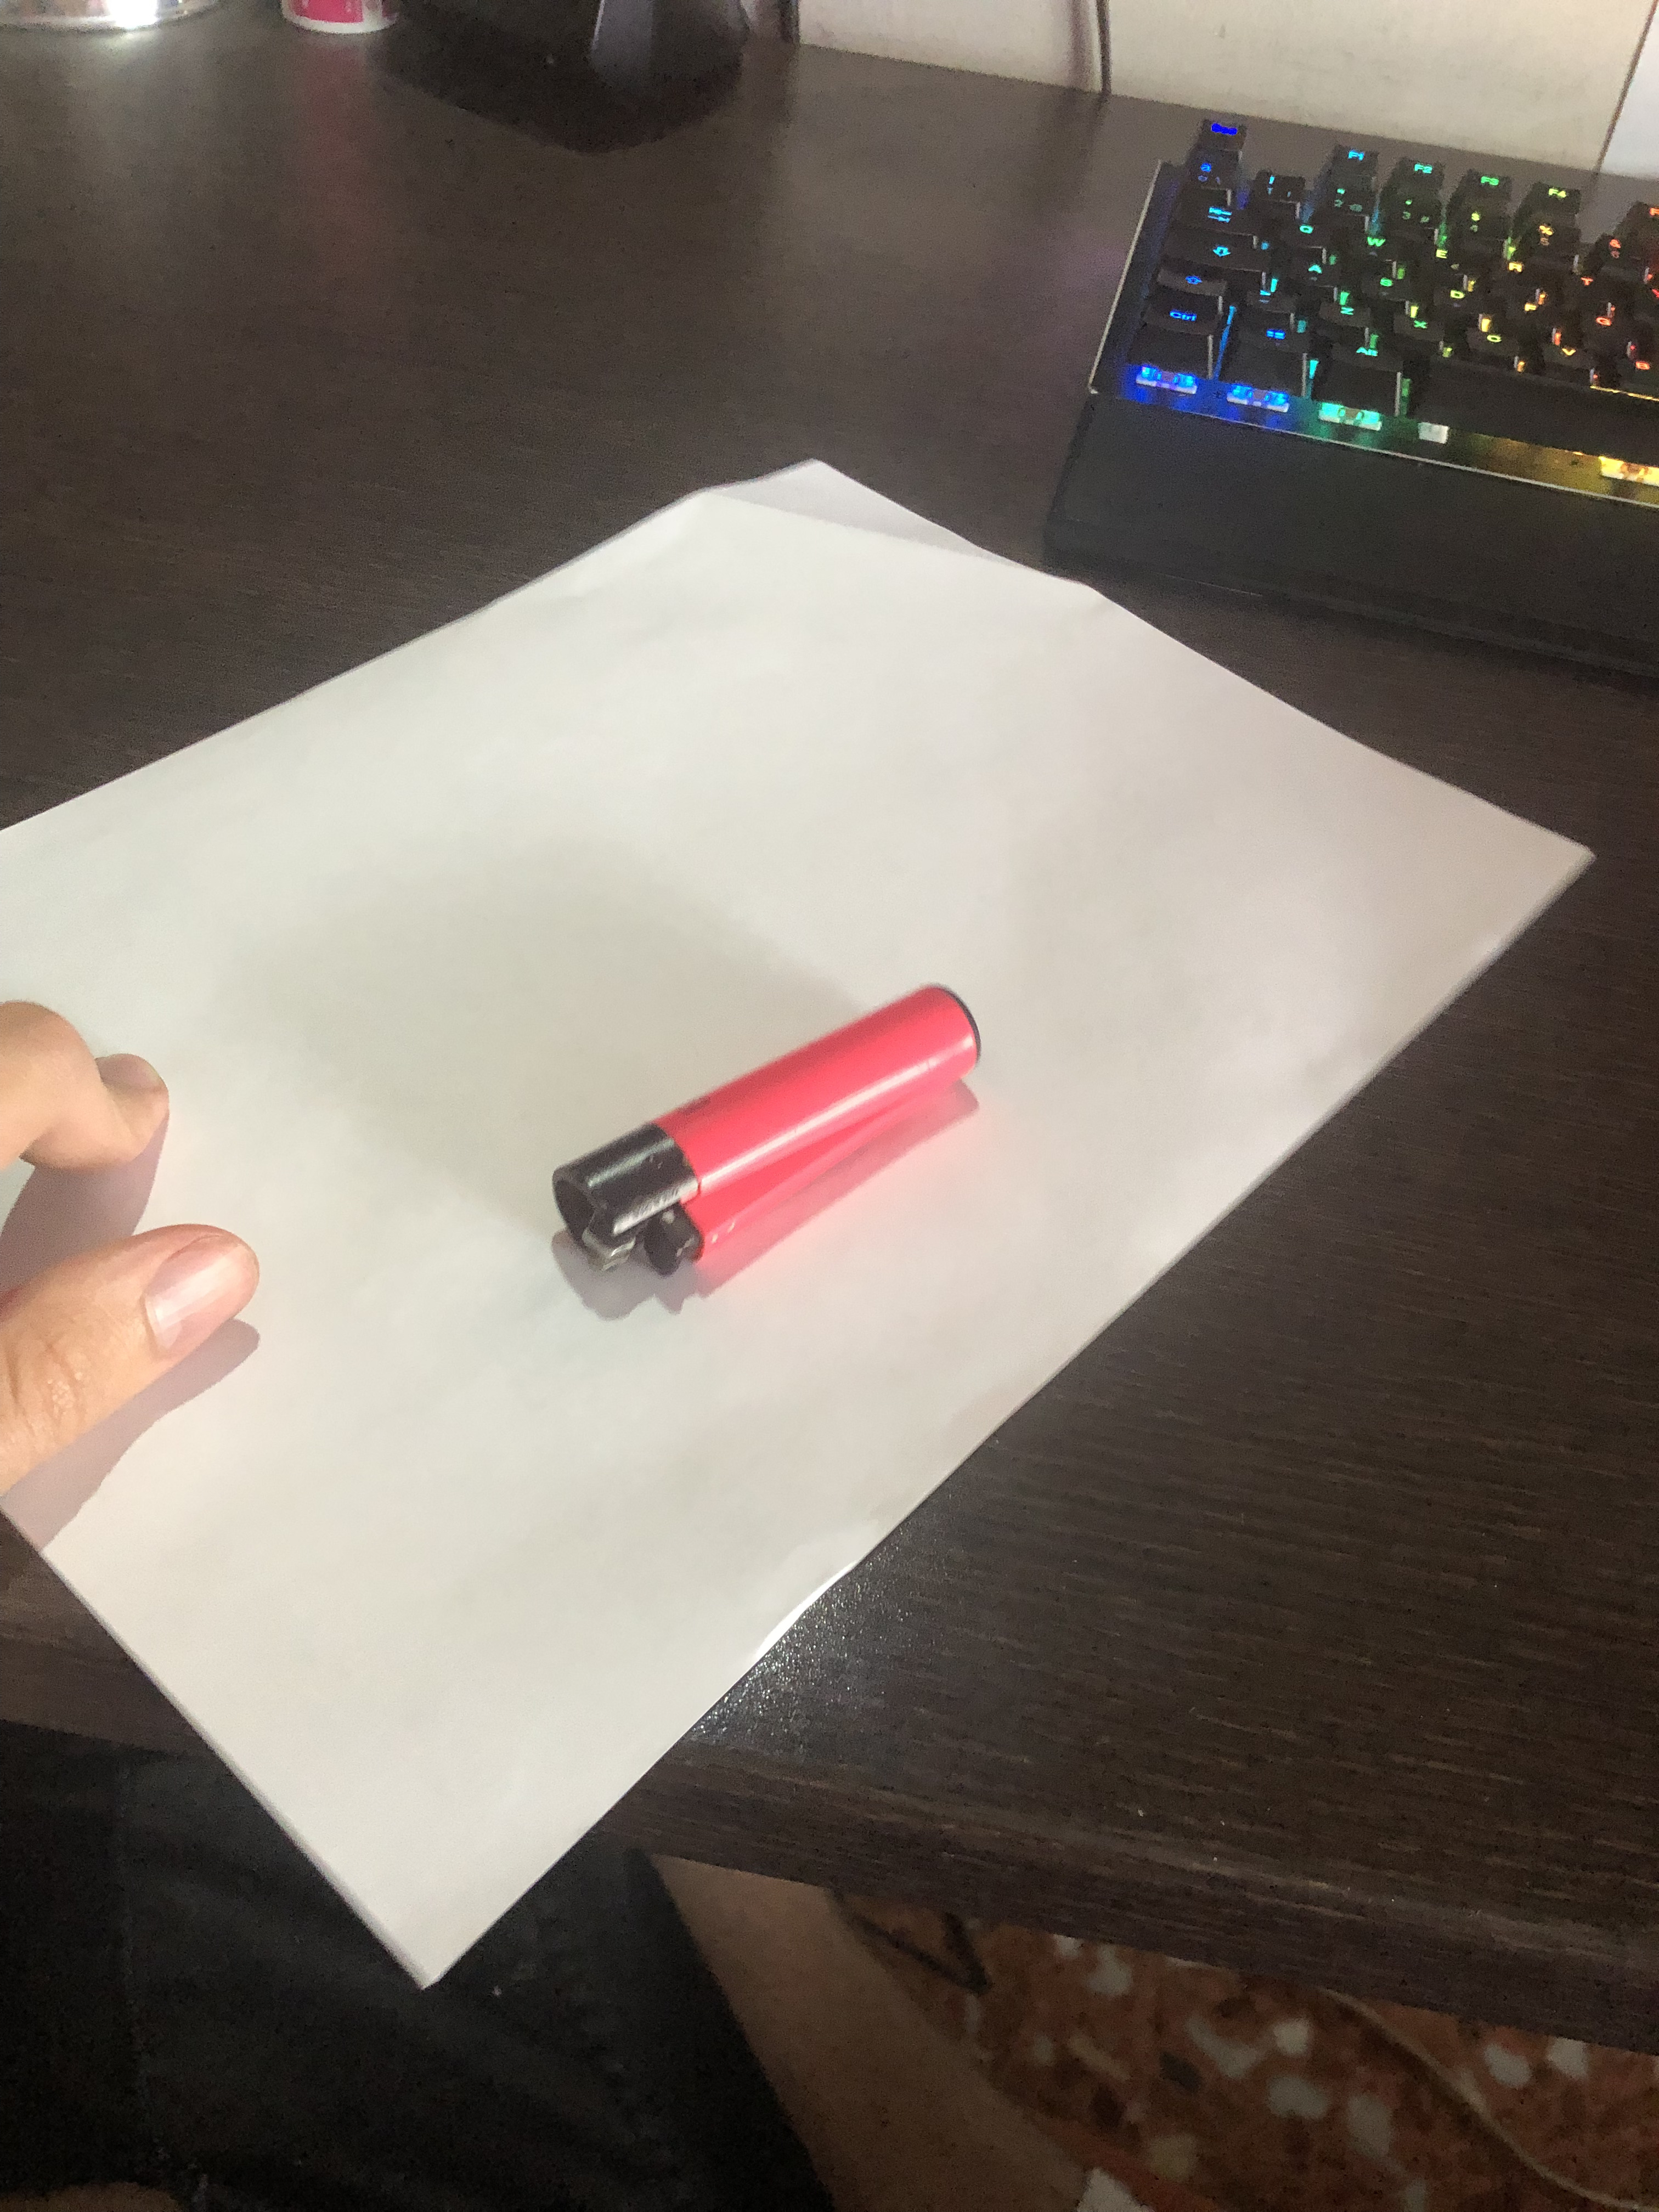Mechero: (521, 981, 993, 1329)
